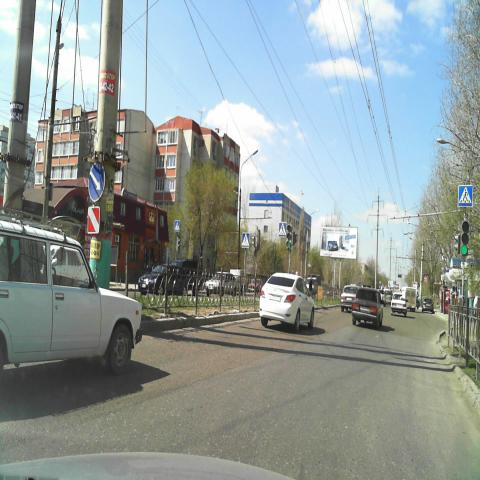4_2_1: (88, 162, 106, 202)
5_19_1: (458, 185, 474, 207), (239, 232, 250, 250), (278, 223, 286, 237), (173, 220, 179, 234)
